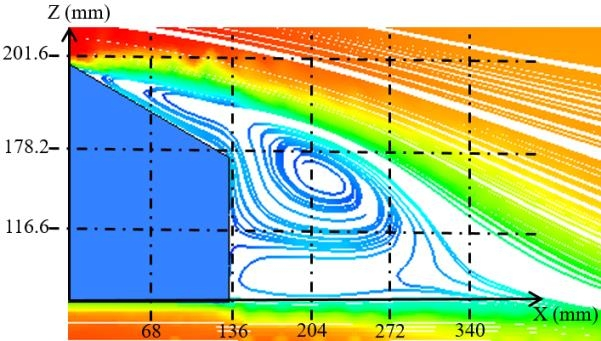vortox: (239, 123, 402, 243)
